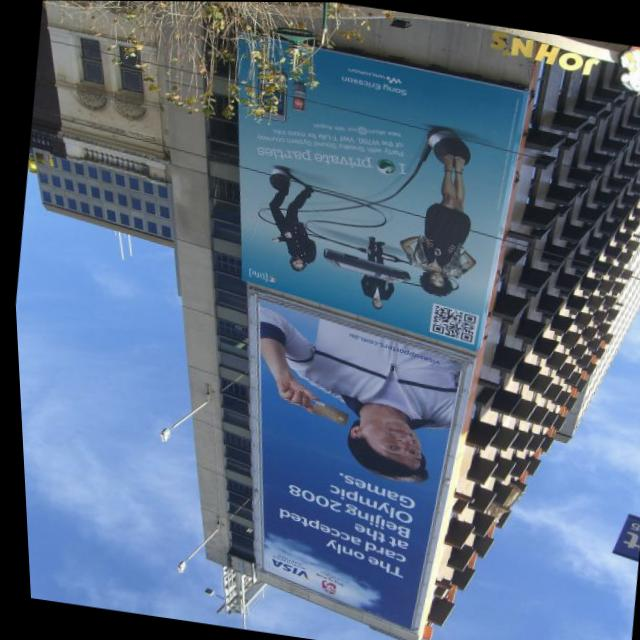qrcode: (427, 305, 475, 342)
